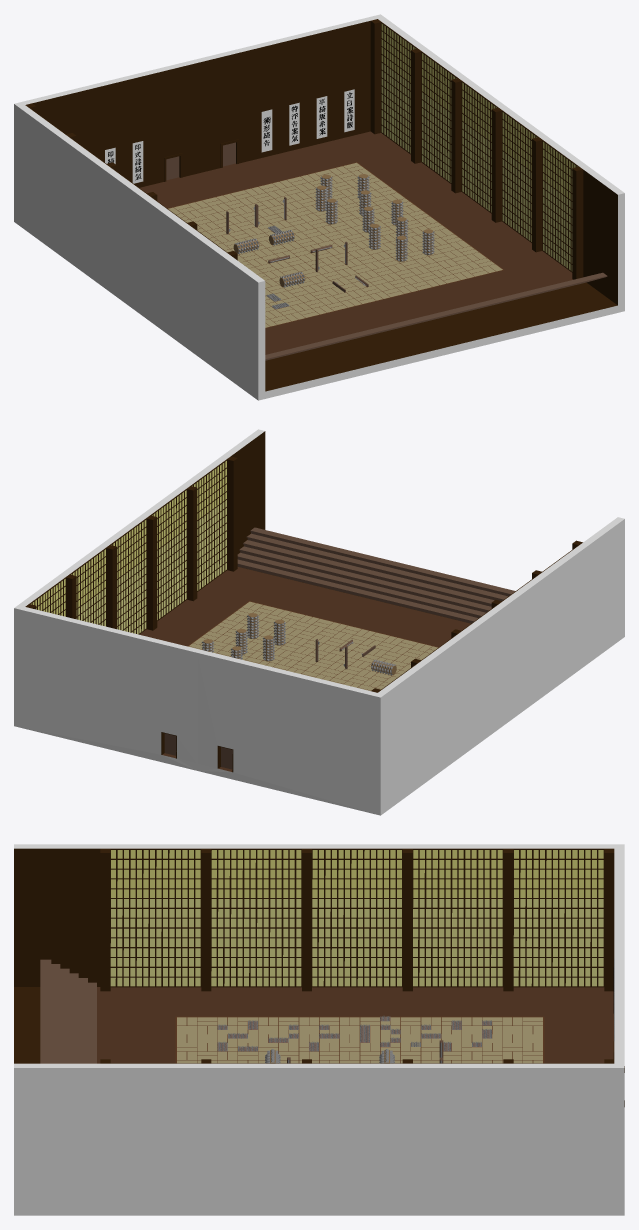
Rendered from pokoj_treningowy.fbx.
The picture shows the model from 3 angles, top to bottom: view 1: azimuth 30°, elevation 25°; view 2: azimuth 150°, elevation 25°; view 3: azimuth 270°, elevation 25°; orthographic projection. The views are drawn at different scales.
Visible parts, largest first — view 1: pokój, podłoga, okna, belki, trybuna, sztandar.001, sztandar; view 2: pokój, okna, trybuna, podłoga, belki; view 3: pokój, okna, podłoga, belki, trybuna.
Boxes of the visible parts, x1,y1,x2,y2 form: pokój: [14, 14, 624, 400]; podłoga: [168, 162, 502, 327]; okna: [29, 22, 578, 272]; belki: [25, 19, 583, 279]; trybuna: [265, 272, 607, 360]; sztandar.001: [261, 89, 354, 152]; sztandar: [105, 141, 143, 183]; pokój: [14, 429, 624, 815]; okna: [29, 459, 578, 689]; trybuna: [237, 527, 515, 623]; podłoga: [188, 601, 438, 690]; belki: [25, 456, 582, 692]; pokój: [14, 844, 624, 1215]; okna: [110, 848, 604, 1063]; podłoga: [176, 1017, 543, 1063]; belki: [100, 848, 614, 1063]; trybuna: [40, 959, 96, 1063].
Bounding box in the file's own units: 5200 × 1600 × 6004.
